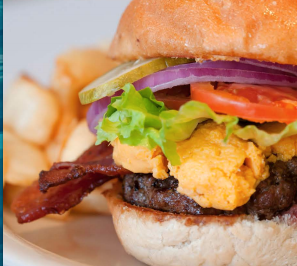soup: (17, 23, 297, 260)
